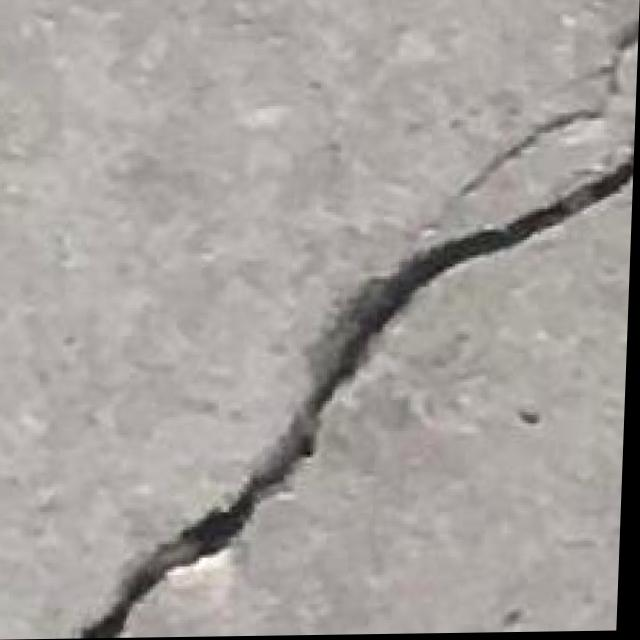Crack: (85, 156, 632, 639)
